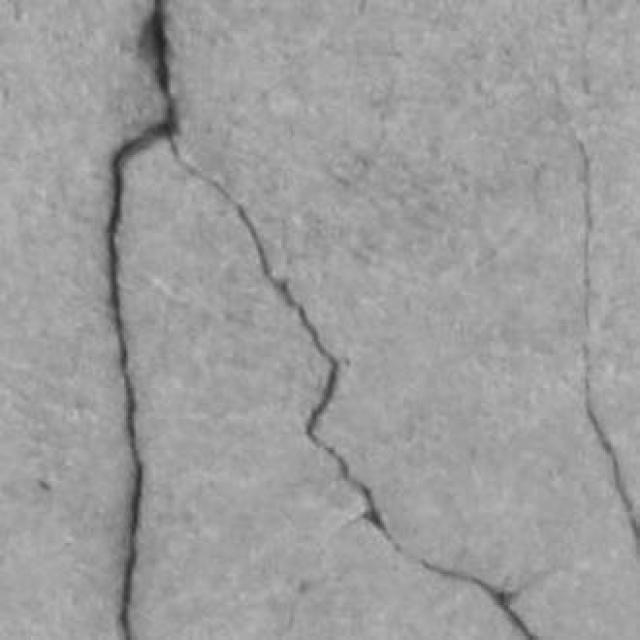crack: (115, 0, 539, 639), (107, 105, 174, 639), (107, 123, 166, 639), (571, 127, 639, 556), (576, 138, 639, 554)
